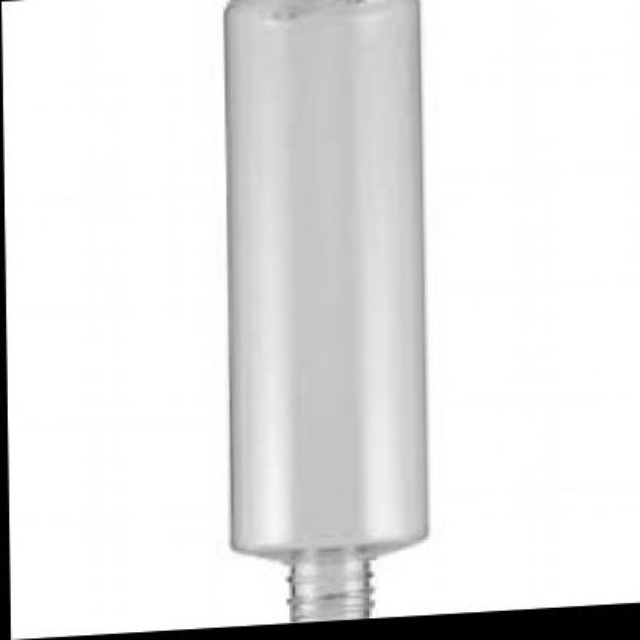trash: (225, 0, 426, 618)
